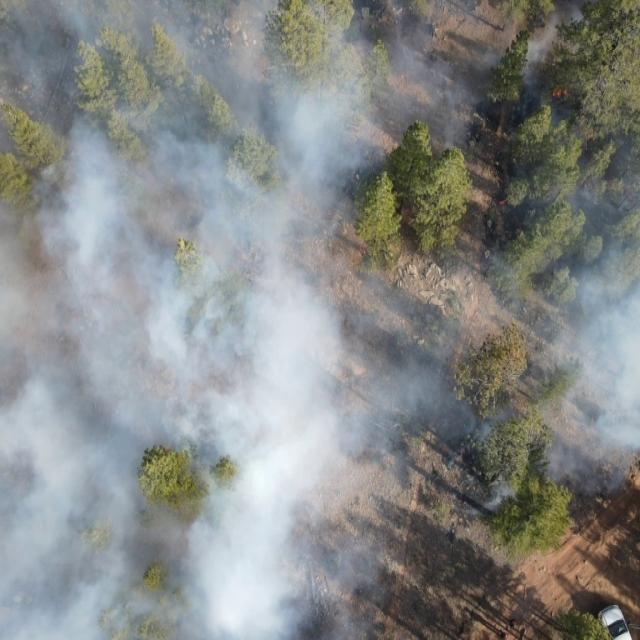fire: (550, 83, 572, 98), (497, 194, 512, 208)
smoke: (0, 0, 426, 640), (427, 2, 640, 527)
